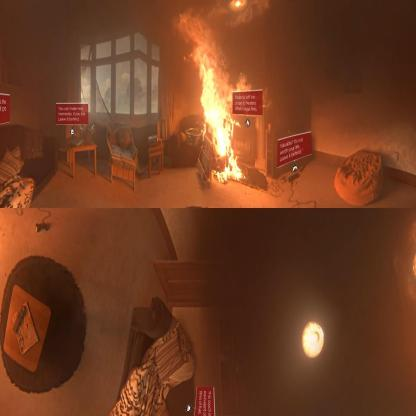fire: (180, 12, 246, 188)
